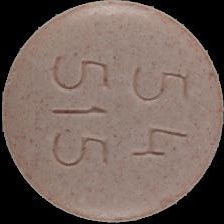55154-4959: (0, 0, 224, 224)
